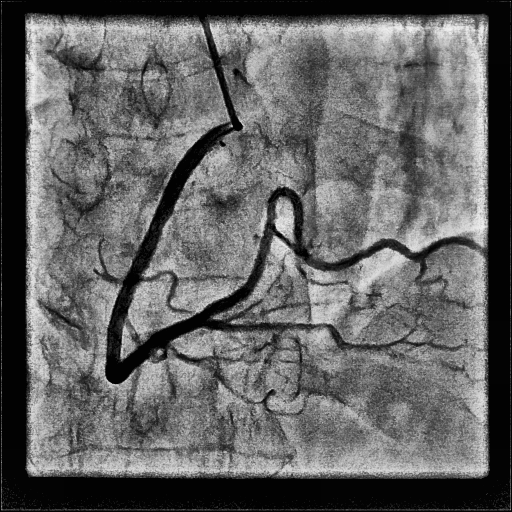pborca: (202, 188, 480, 317)
pda: (205, 318, 464, 350)
rca: (105, 133, 219, 384)
